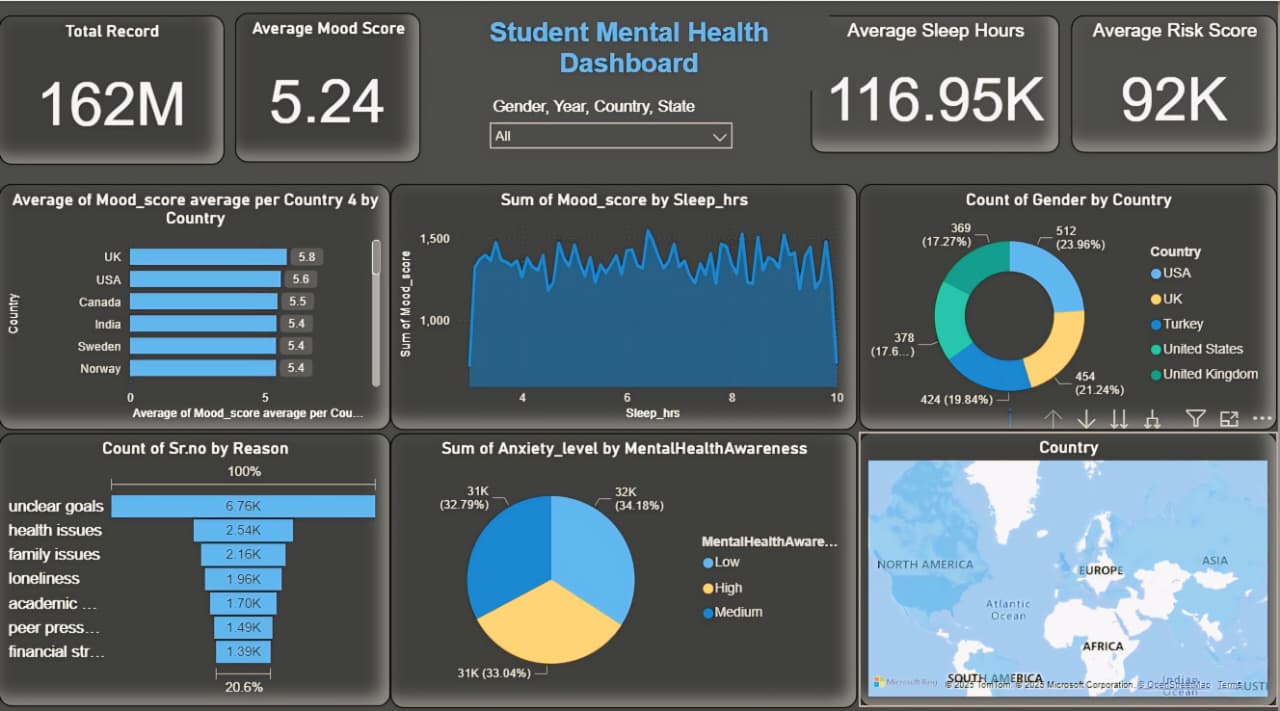

The dashboard page shown, as its layout file describes it:
{"tool":"powerbi","page":{"name":"Student Mental Health Dashboard","canvas":[1280,720],"ordinal":0},"visuals":[{"type":"barChart","title":"Mood Score Risk by Country","fields":{"Y":["mental_health_data_part_1.Average of Mood_score average per Country 4"],"Category":["mental_health_data_part_1.Country"]},"box":[14.5,183.4,377.6,246.1],"z":0},{"type":"pieChart","title":"Student  Anxiety Distribution","fields":{"Y":["Sum(mental_health_data_part_1.Anxiety_level)"],"Category":["mental_health_data_part_1.MentalHealthAwareness"]},"box":[406.6,441.6,441.6,265.4],"z":1000},{"type":"lineChart","title":"Mood vs Sleep hrs.","fields":{"Category":["mental_health_data_part_1.Sleep_hrs"],"Y":["Sum(mental_health_data_part_1.Mood_score)"]},"box":[406.6,183.4,441.6,246.1],"z":2000},{"type":"funnel","title":"Top reason for Student Dropout","fields":{"Category":["mental_health_data_part_1.Reason"],"Y":["CountNonNull(mental_health_data_part_1.Sr.no)"]},"box":[14.5,441.6,377.6,266.6],"z":3000},{"type":"slicer","fields":{"Values":["mental_health_data_part_1.Gender","mental_health_data_part_1.Year","mental_health_data_part_1.Country","mental_health_data_part_1.State"]},"box":[488.8,105,262.5,78.8],"z":4000},{"type":"filledMap","fields":{"Category":["mental_health_data_part_1.Country","mental_health_data_part_1.State"]},"box":[861.4,441.6,407.8,260.6],"z":5000},{"type":"card","title":"Total Record","fields":{"Values":["Sum(mental_health_data_part_1.Sr.no)"]},"box":[15,21.2,210,148.8],"z":6000},{"type":"card","title":"Average Mood Score","fields":{"Values":["mental_health_data_part_1.Average of Mood_score average per Country"]},"box":[242.5,21.2,186.2,148.8],"z":7000},{"type":"card","title":"Average Sleep Hours","fields":{"Values":["Sum(mental_health_data_part_1.Sleep_hrs)"]},"box":[801.2,22.5,248.8,147.5],"z":8000},{"type":"card","title":"Average Risk Score","fields":{"Values":["Sum(mental_health_data_part_1.Risk_score)"]},"box":[1062.5,23.8,206.2,146.2],"z":9000},{"type":"donutChart","fields":{"Category":["mental_health_data_part_1.Country"],"Y":["CountNonNull(mental_health_data_part_1.Gender)"]},"box":[861.4,183.4,407.8,246.1],"z":10000},{"type":"textbox","box":[437.9,12.1,364.4,77.2],"z":11000}]}

Visuals, with their boxes in screenshot pixels (x1, y1, x2, y2), scaled from the page's 1280x720 canvas onto the 1280x711 screenshot:
"Mood Score Risk by Country" barChart: [x1=14, y1=181, x2=392, y2=424]
"Student  Anxiety Distribution" pieChart: [x1=407, y1=436, x2=848, y2=698]
"Mood vs Sleep hrs." lineChart: [x1=407, y1=181, x2=848, y2=424]
"Top reason for Student Dropout" funnel: [x1=14, y1=436, x2=392, y2=699]
slicer - mental_health_data_part_1.Gender x mental_health_data_part_1.Year: [x1=489, y1=104, x2=751, y2=182]
filledMap - mental_health_data_part_1.Country x mental_health_data_part_1.State: [x1=861, y1=436, x2=1269, y2=693]
"Total Record" card: [x1=15, y1=21, x2=225, y2=168]
"Average Mood Score" card: [x1=242, y1=21, x2=429, y2=168]
"Average Sleep Hours" card: [x1=801, y1=22, x2=1050, y2=168]
"Average Risk Score" card: [x1=1062, y1=24, x2=1269, y2=168]
donutChart - mental_health_data_part_1.Country x CountNonNull(mental_health_data_part_1.Gender): [x1=861, y1=181, x2=1269, y2=424]
textbox: [x1=438, y1=12, x2=802, y2=88]
